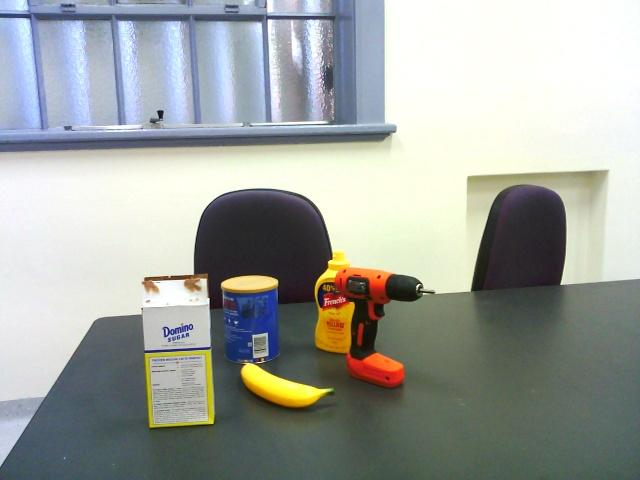002_master_chef_can: (219, 274, 285, 366)
004_sugar_box: (138, 271, 218, 430)
006_mustard_bottle: (312, 251, 362, 356)
011_banana: (238, 361, 338, 411)
035_power_drill: (332, 265, 439, 387)
